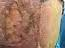plaque psoriasis: (0, 0, 49, 48)
